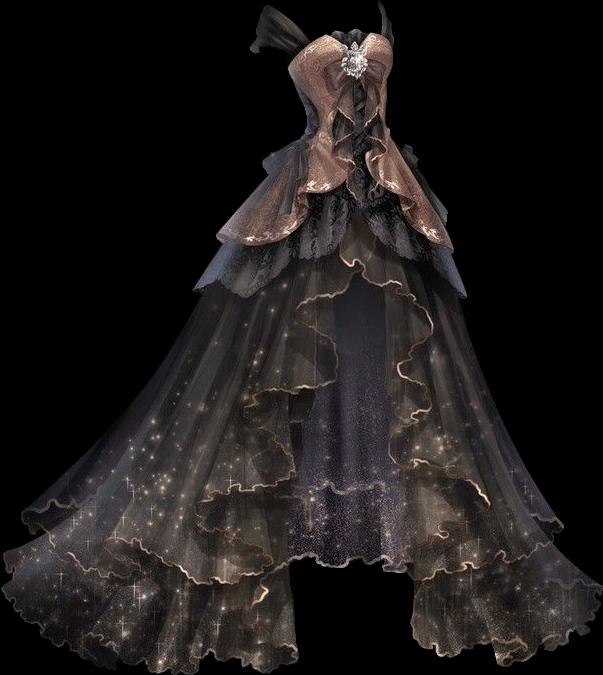Bodice: (288, 29, 392, 127)
Hemline: (20, 263, 362, 584), (337, 250, 565, 579), (0, 551, 602, 674), (191, 183, 361, 300), (214, 131, 362, 249), (354, 133, 452, 246), (355, 219, 466, 301)
Neckline: (282, 25, 394, 67)
Skirt: (2, 123, 602, 674)
Sleeve: (250, 5, 311, 67)
Sleeveline: (284, 38, 313, 66)
